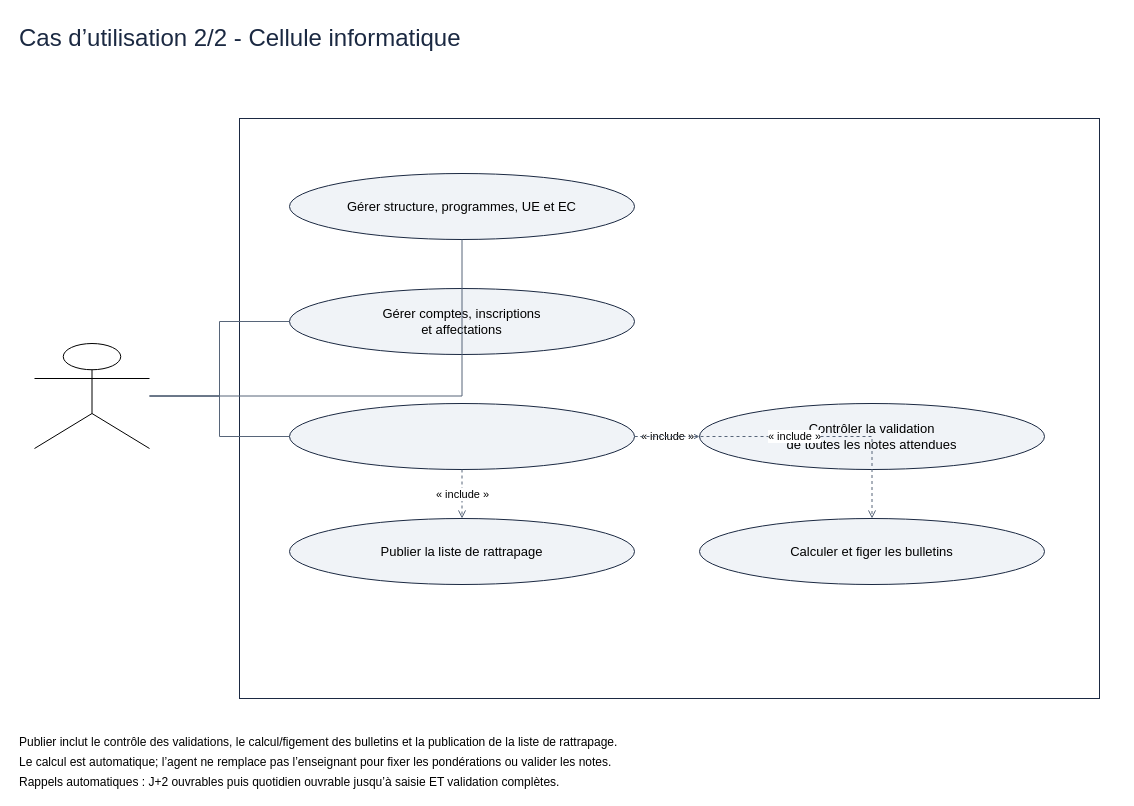
This 1134x806 diagram has some shape labels left out. Each missing label, with the box of its shape:
Agent informatique: (34, 342, 150, 448)
GNU: (238, 118, 1100, 698)
Publier ou republier les résultats: (288, 402, 634, 470)
